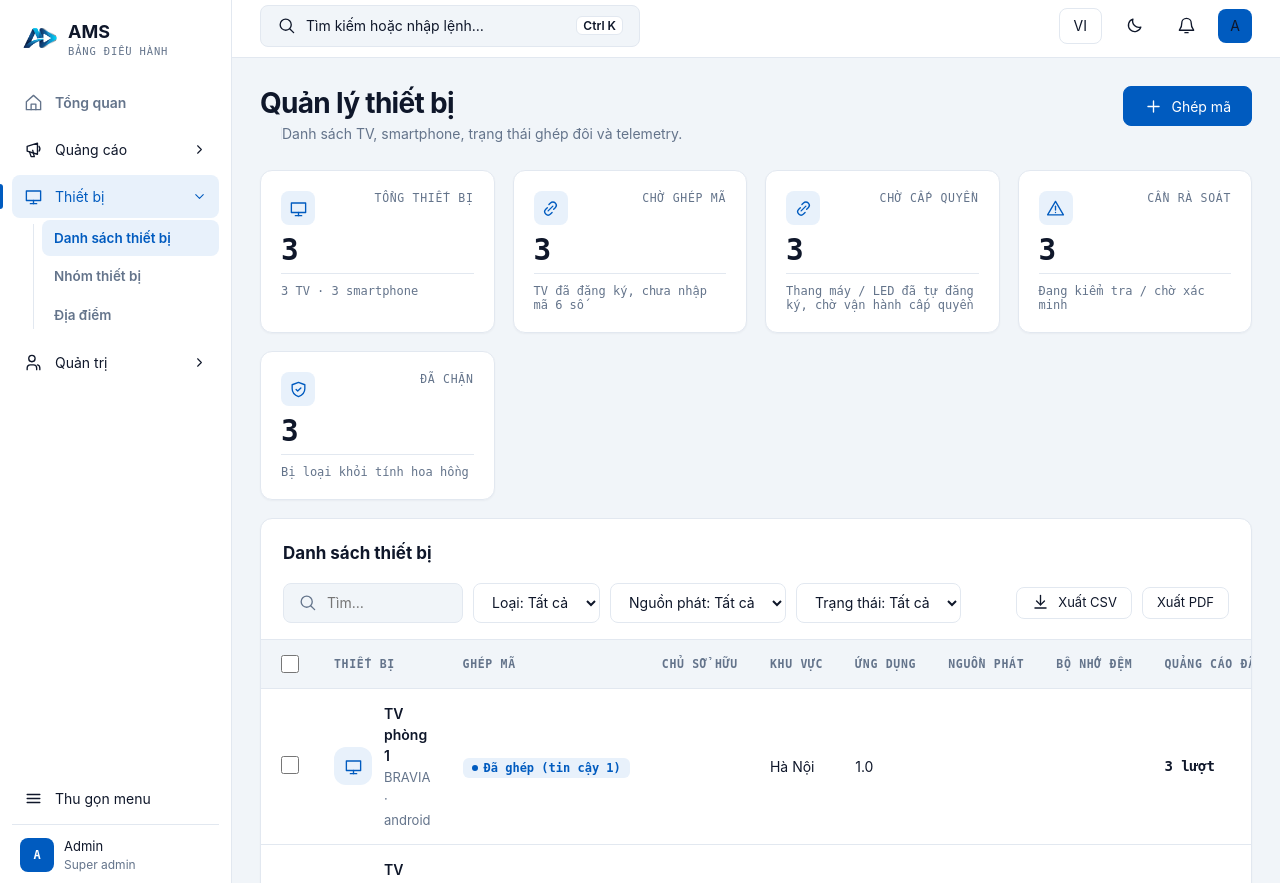
Test: Devices: xoa thiet bi › chon 2 thiet bi -> Xoa -> hop xac nhan liet ke ten -> POST /devices/bulk-delete {ids}
The width and height of the screenshot is (1280, 883).
Later steps or results of the test are not shown.
expect the text "TV phòng 1" is shown: met, box [384, 702, 430, 766]
Click the checkbox named "select": (290, 765) [281, 756, 299, 774]
(page scrolled)
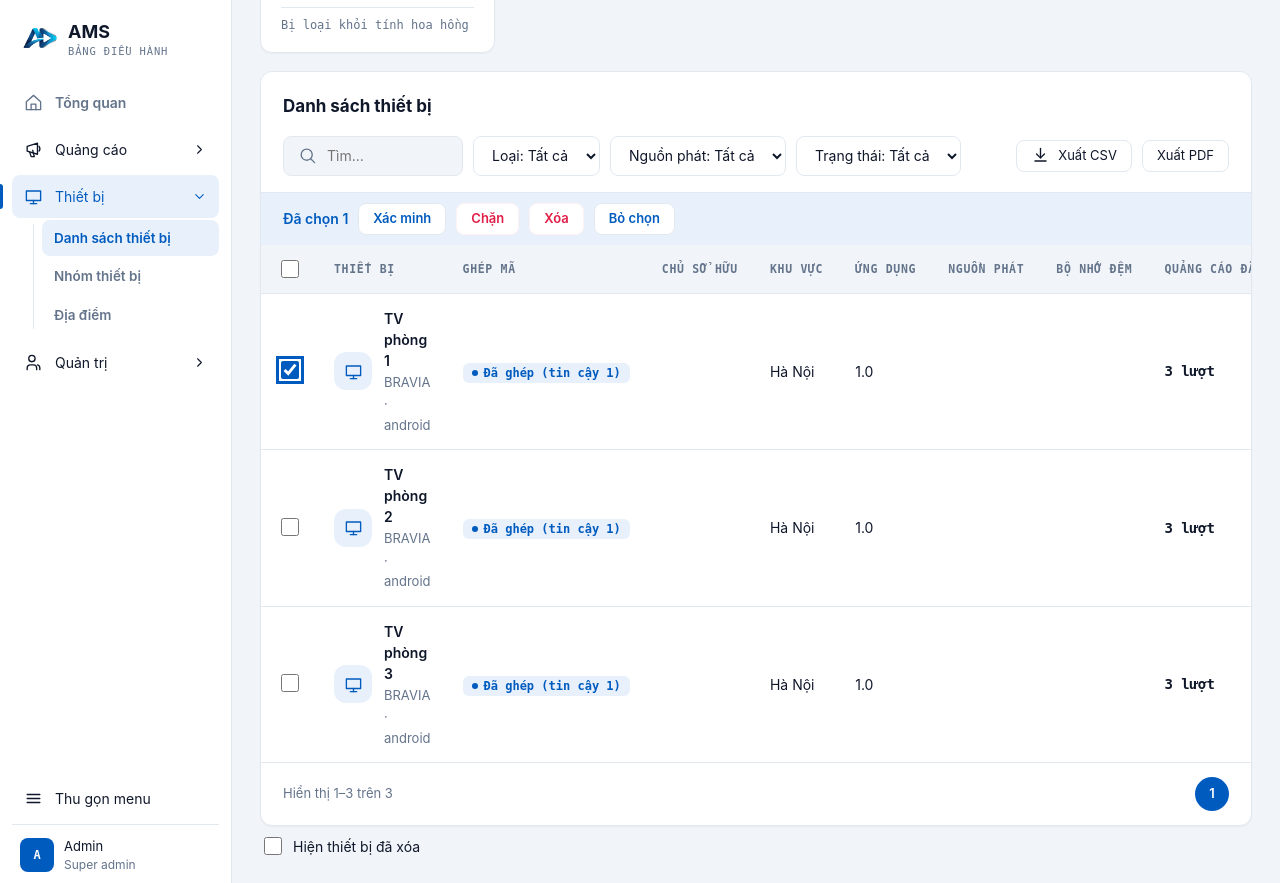
Click the checkbox named "select" below "TV phòng 2": (290, 527) [281, 518, 299, 536]
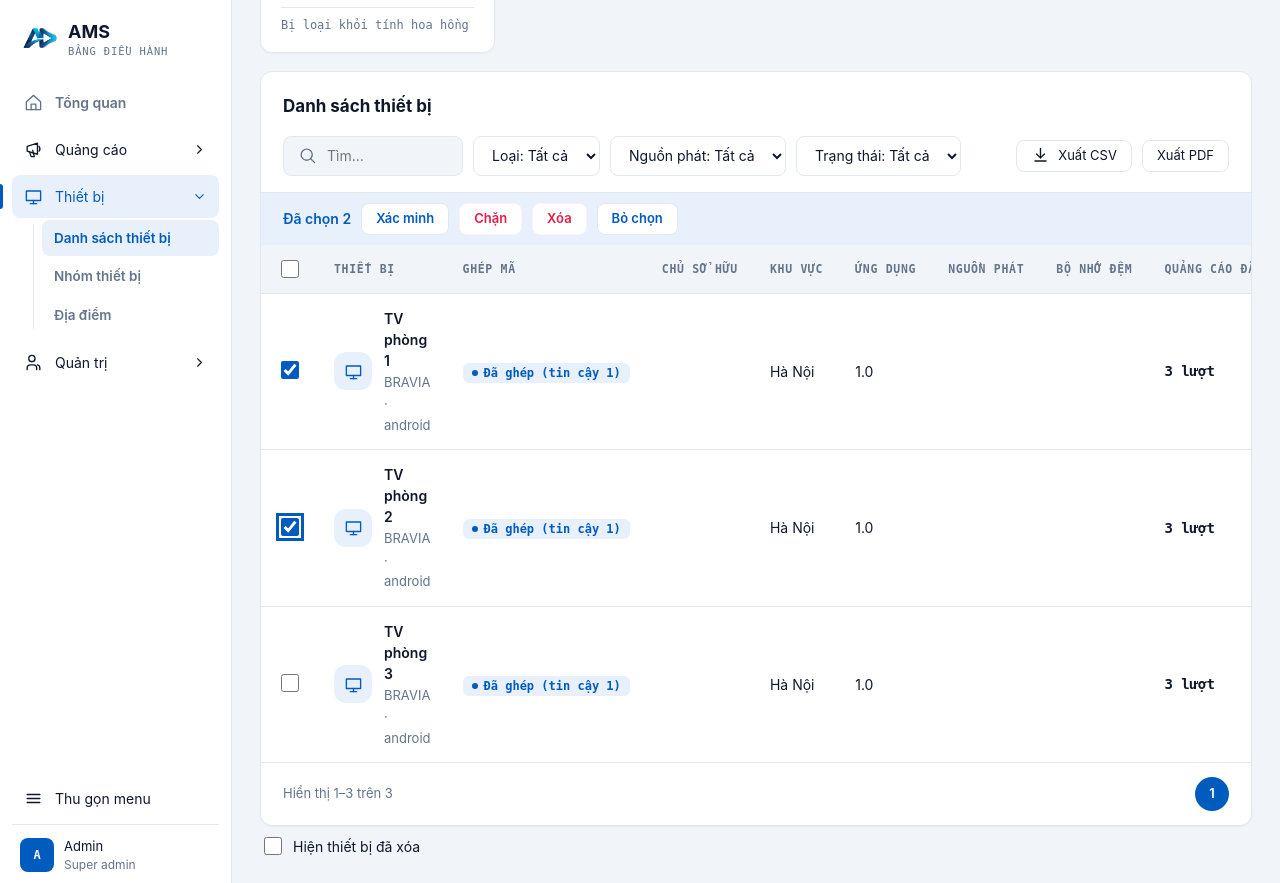
Click the button "Xóa": (559, 218) [532, 202, 587, 234]
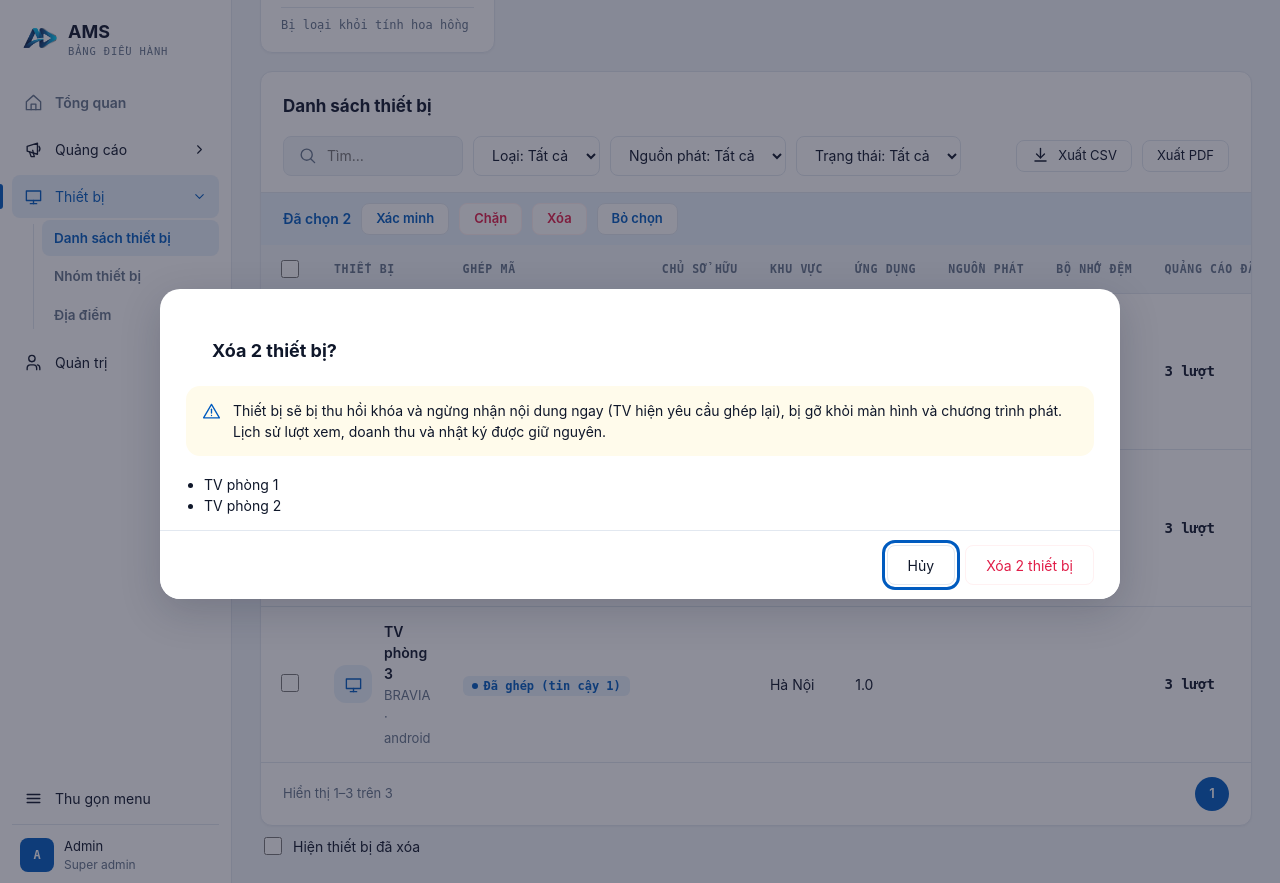
expect the dialog named "Xóa thiết bị" shows "Xóa 2 thiết bị?": met, box [965, 545, 1094, 585]
expect the list named "Thiết bị sẽ xóa" shows "TV phòng 1": met, box [204, 476, 278, 493]
expect the dialog named "Xóa thiết bị" shows "TV phòng 2": met, box [204, 497, 281, 514]
